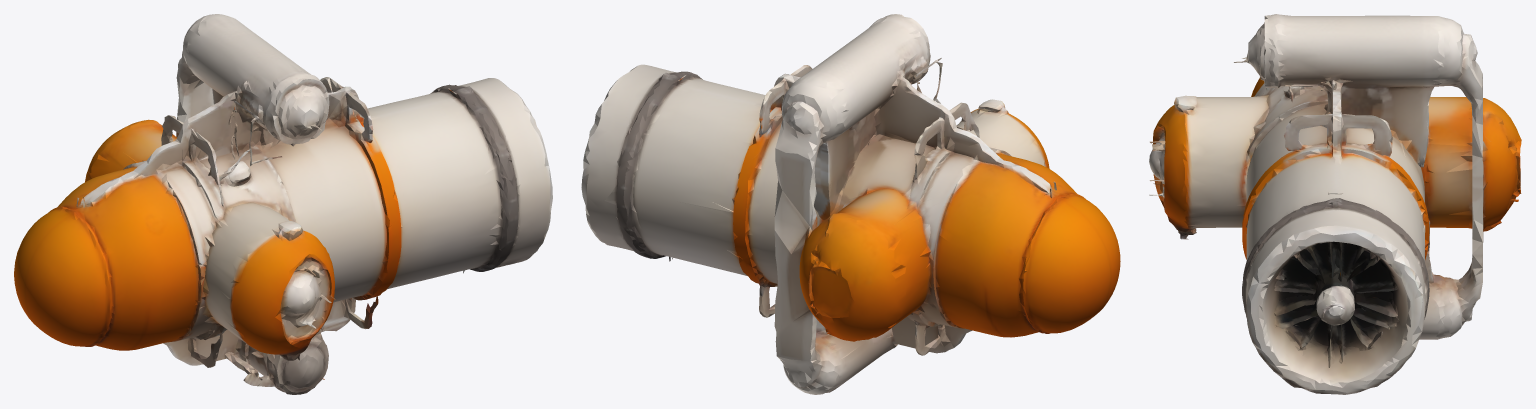
File: titan_engine_aux.glb
The picture shows the model from 3 angles, left to right: view 1: azimuth 30°, elevation 25°; view 2: azimuth 150°, elevation 25°; view 3: azimuth 270°, elevation 25°; orthographic projection.
Parts seen in each view (by area): view 1: titan_engine_aux; view 2: titan_engine_aux; view 3: titan_engine_aux.
Part boxes in pixels (bbox=[...]): titan_engine_aux: bbox=[14, 14, 552, 394]; titan_engine_aux: bbox=[581, 14, 1120, 394]; titan_engine_aux: bbox=[1149, 14, 1521, 394].
Bounding box in the file's own units: 1.93 × 1.19 × 1.25.
Materials: 1 (1 with a texture image).
